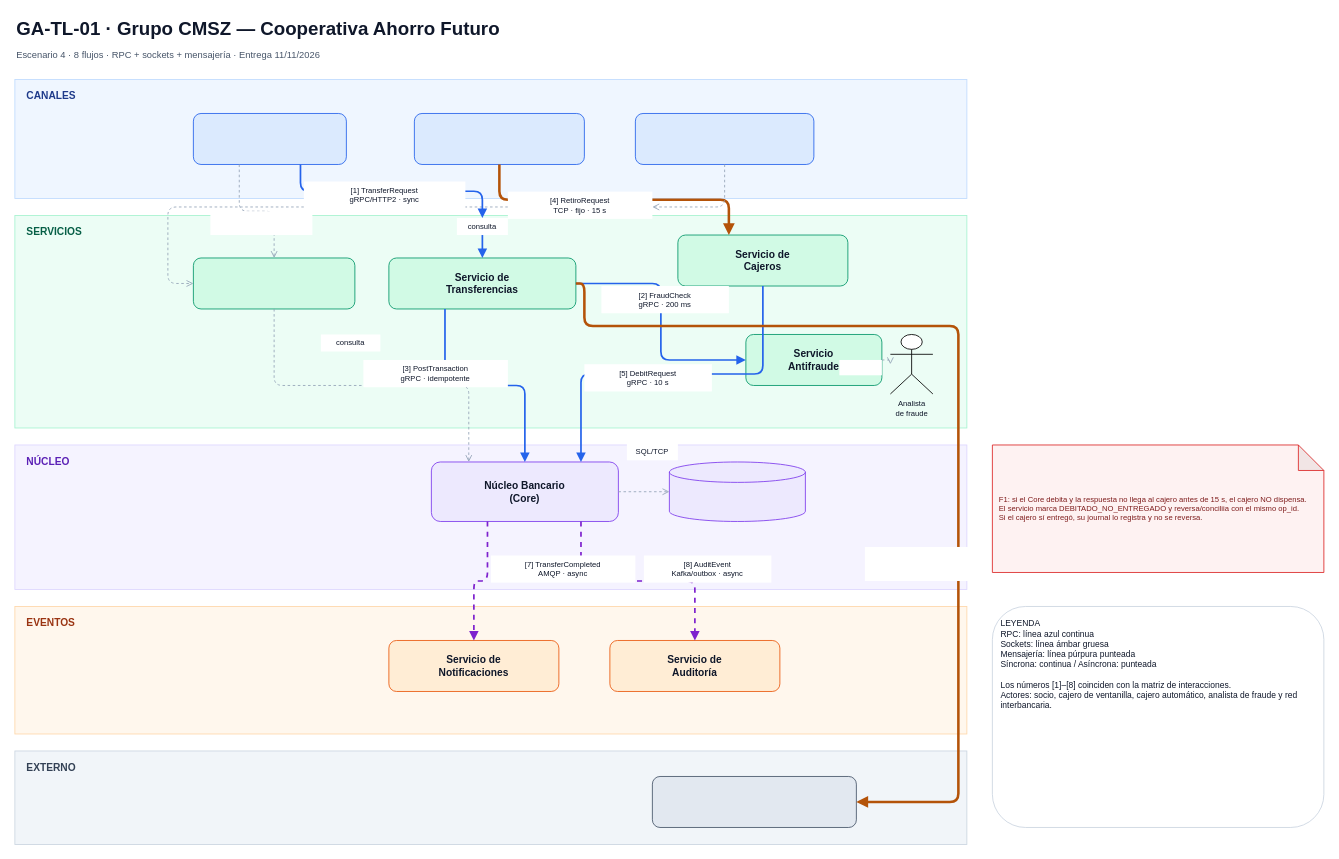
This 1339x859 diagram has some shape labels left out. Each missing label, with the centre of its shape:
"[6] 0200/0210 TCP/ISO 8583 · timeout" belongs at point 928,564.
"alertas" belongs at point 860,367.
"BD transaccional" belongs at point 737,491.
"Cajero automático" belongs at point 499,138.
"Cajero de ventanilla" belongs at point 724,138.
"consulta de saldo gRPC · sync" belongs at point 261,223.
"Red interbancaria (externa)" belongs at point 754,801.
"Servicio de Cuentas" belongs at point 274,283.
"Socio / App-Web" belongs at point 269,138.
